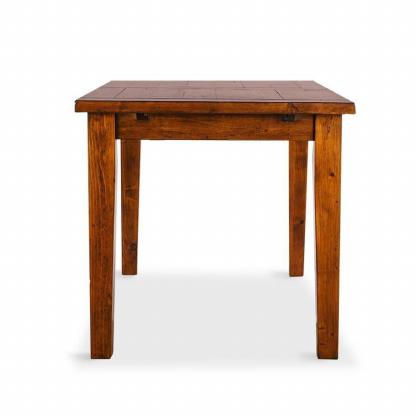Table: (67, 67, 380, 392)
